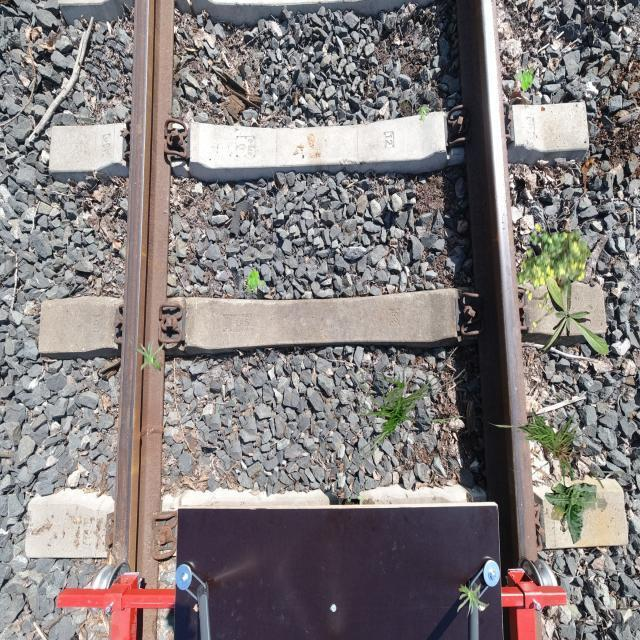Plant: (346, 346, 464, 468), (484, 408, 628, 498), (517, 223, 592, 328), (538, 275, 610, 356), (544, 483, 608, 545), (457, 583, 490, 618), (132, 337, 164, 372), (245, 269, 266, 294), (514, 66, 534, 91), (418, 107, 432, 122)
